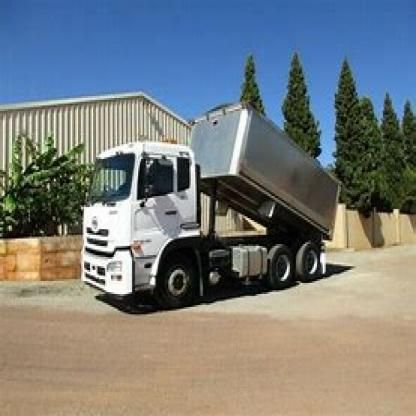dump_truck: (78, 94, 359, 311)
